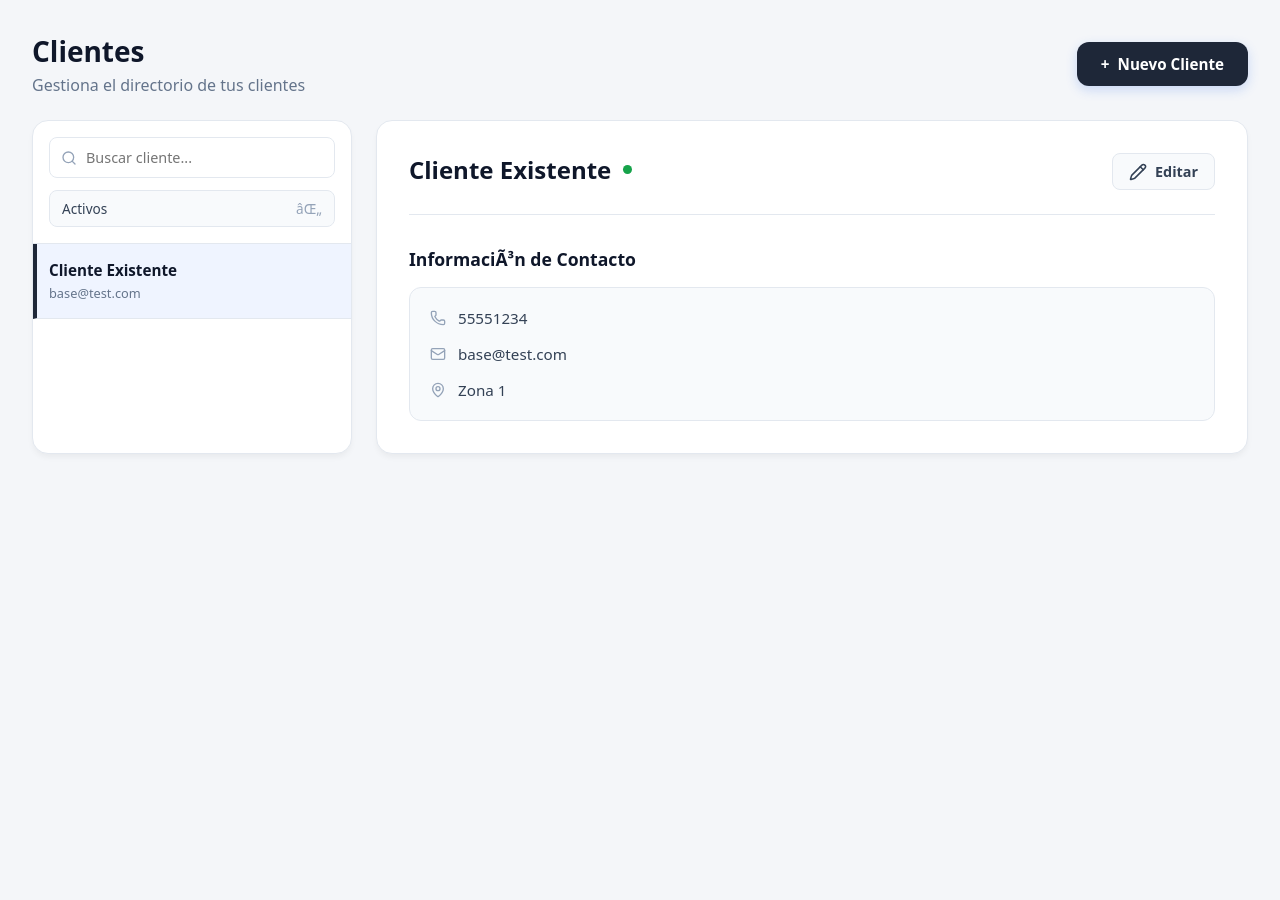
Flujo comercial completo: Clientes › creación: registra un cliente nuevo y lo deja seleccionado en el detalle
Expected: the heading with class "detail-name" reads "Cliente Existente", [409,153,611,186]
Click the button with class "btn-add" at (1162, 64), box [1077,42,1248,86]
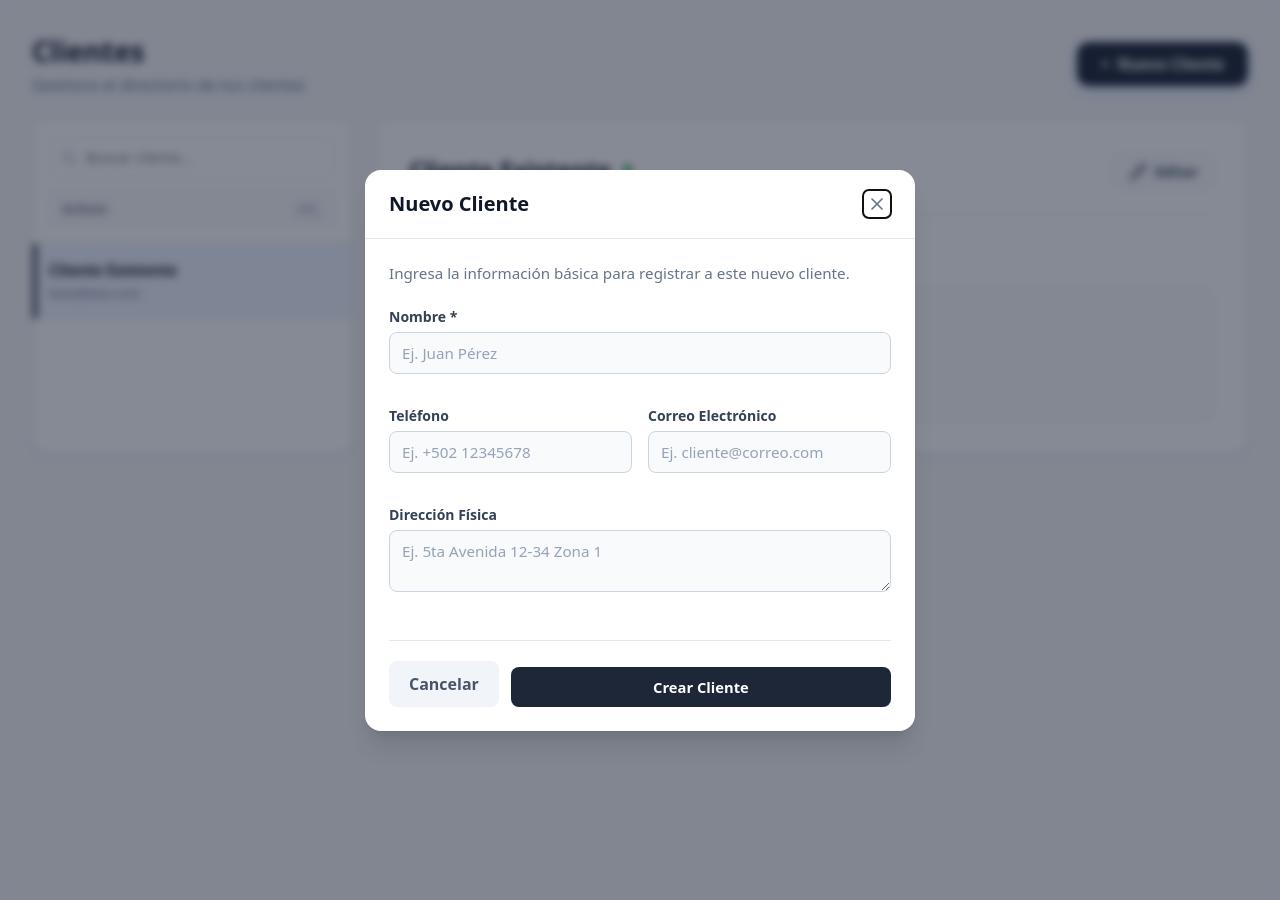
Type "Cliente Nuevo" into the field with placeholder "Ej. Juan Pérez" at (640, 352), box [389,332,891,374]
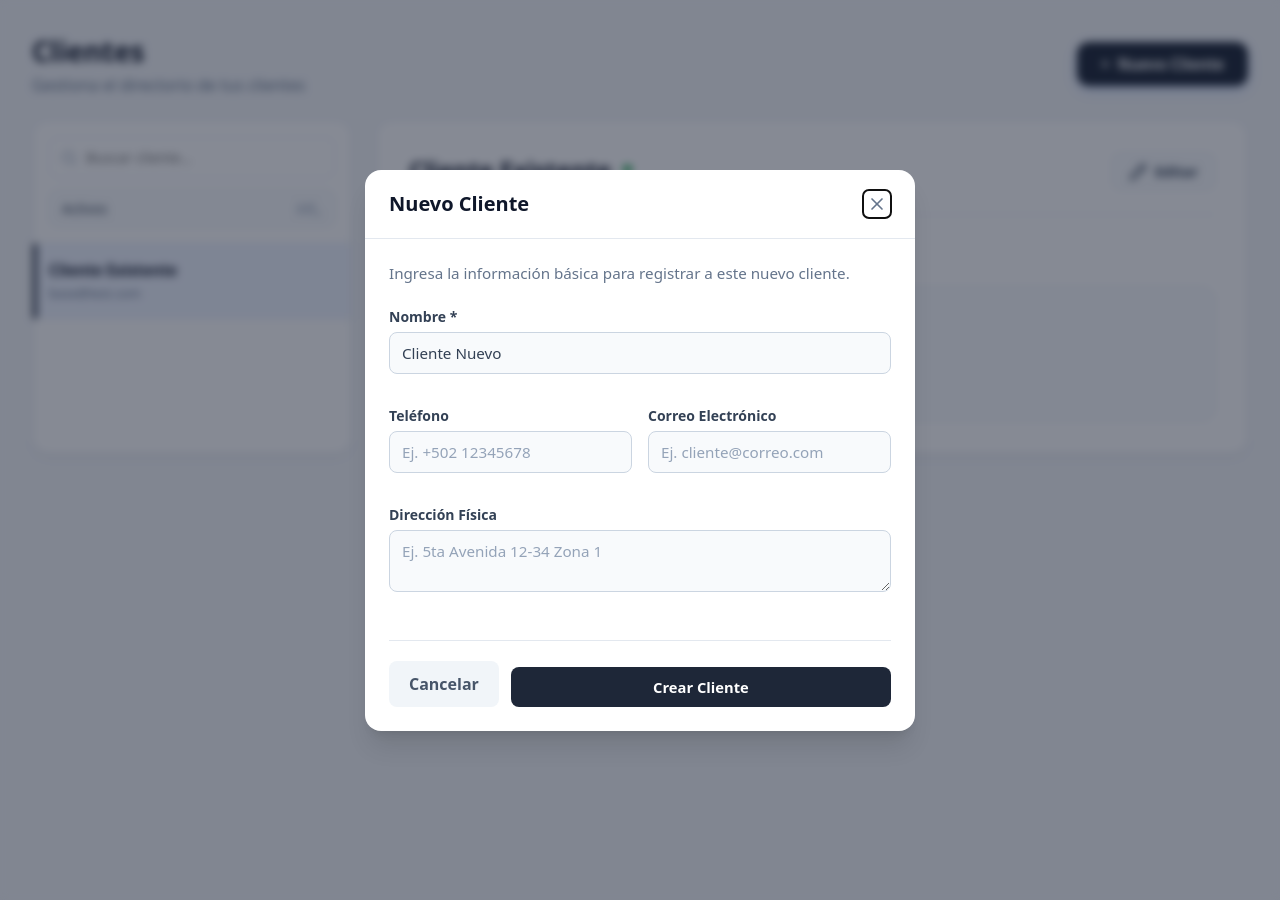
Submit the form, box [389,306,891,706]
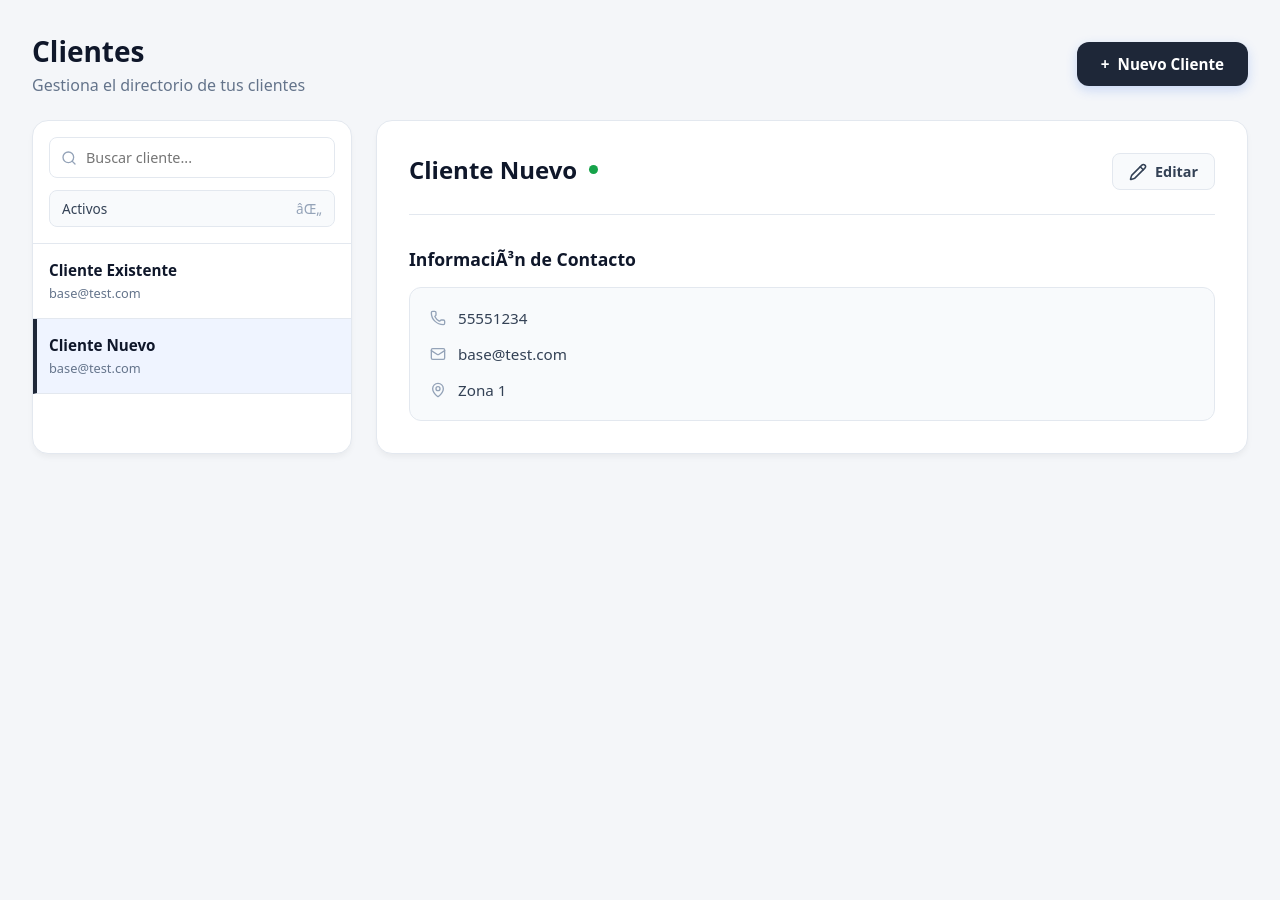
Expected: the heading with class "detail-name" reads "Cliente Nuevo", [409,153,577,186]
